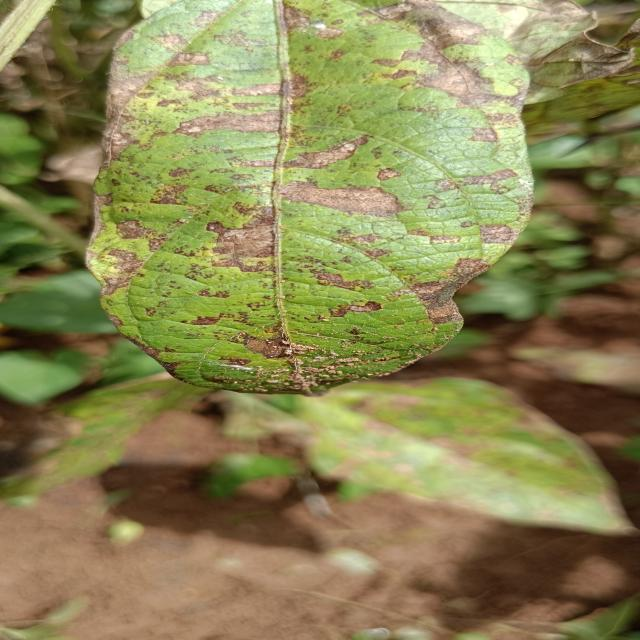Black gram_leaf spot: (74, 0, 545, 402), (283, 371, 640, 536)
